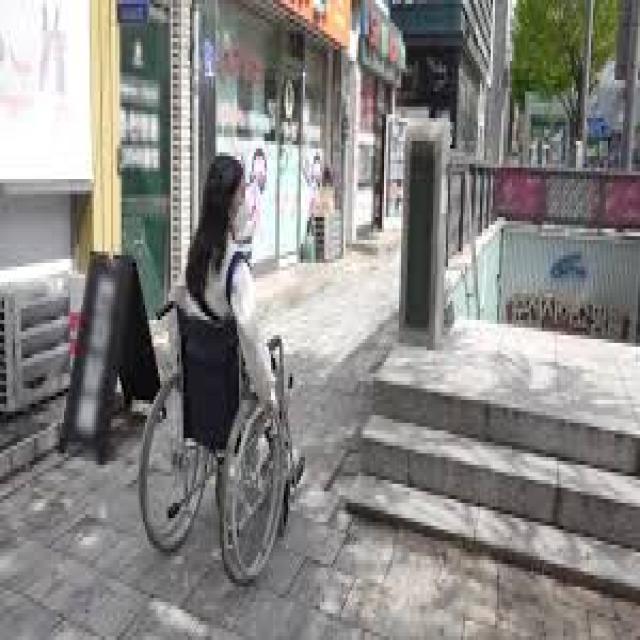wheelchair: (138, 154, 306, 580)
